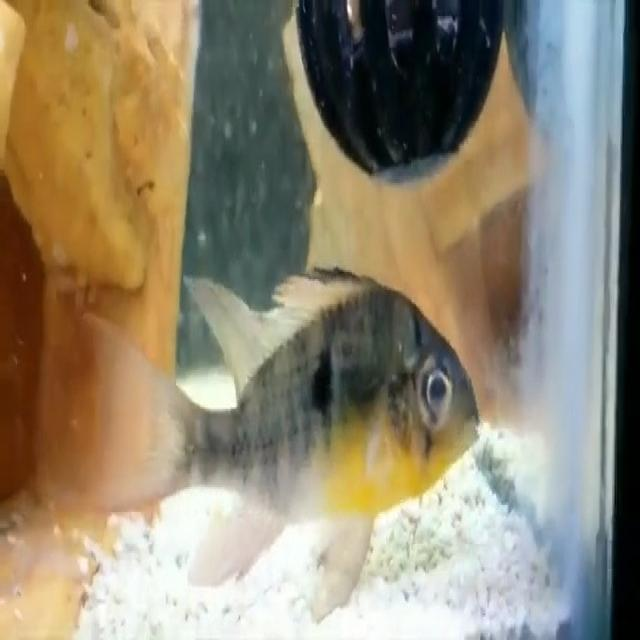fish: (94, 260, 490, 628)
